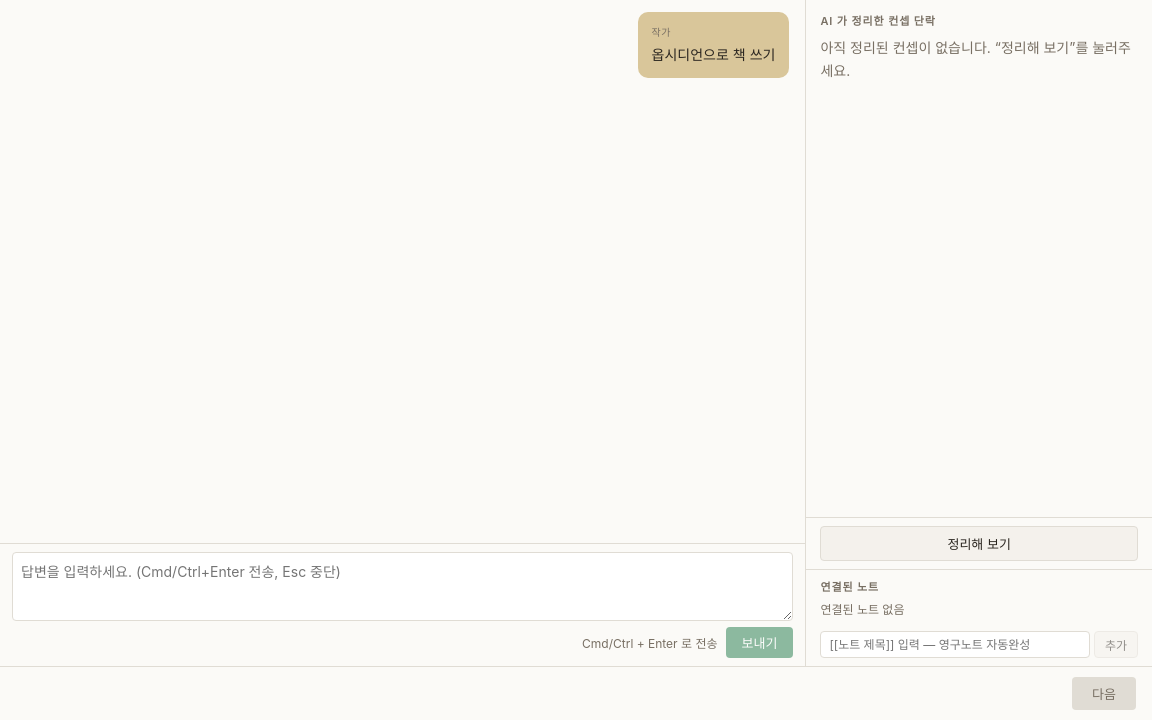
Test: 시나리오 5: 노트 chip 추가/제거 › 추가 버튼 클릭으로도 노트 추가 가능
Replace the text in the field with test id "concept-note-input" with "[ [노트B]]" at (955, 644), box [820,631,1090,658]
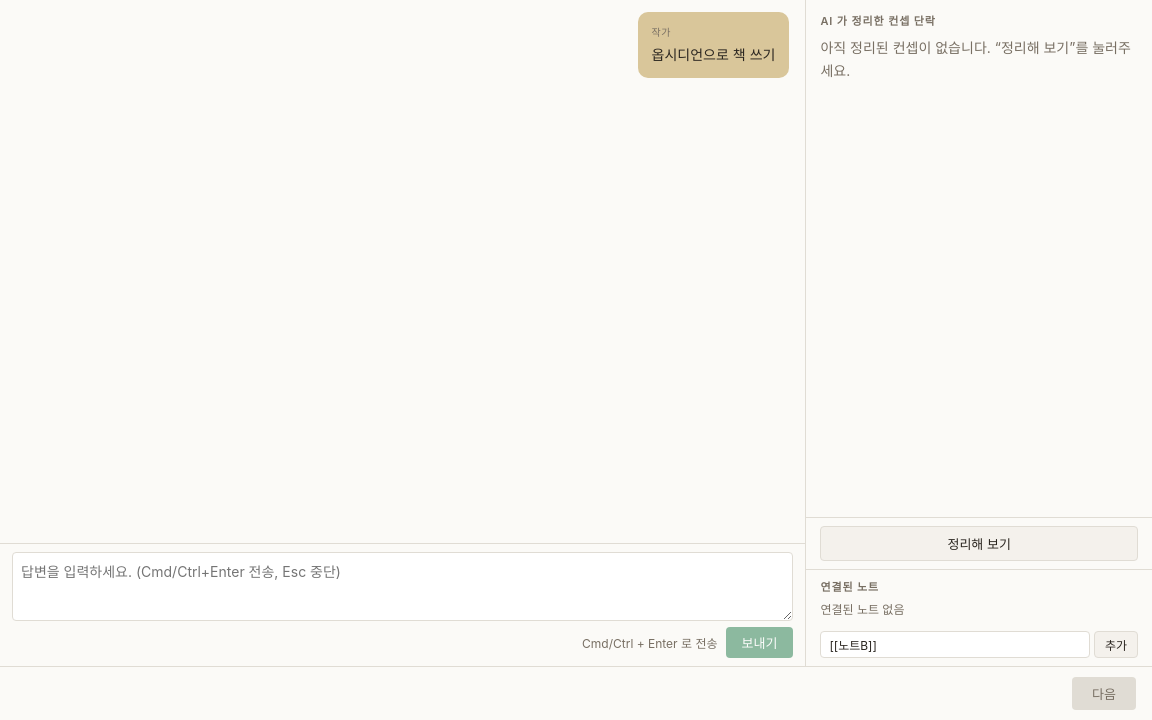
Click the button with test id "concept-note-add" at (1116, 644), box [1094,631,1138,658]
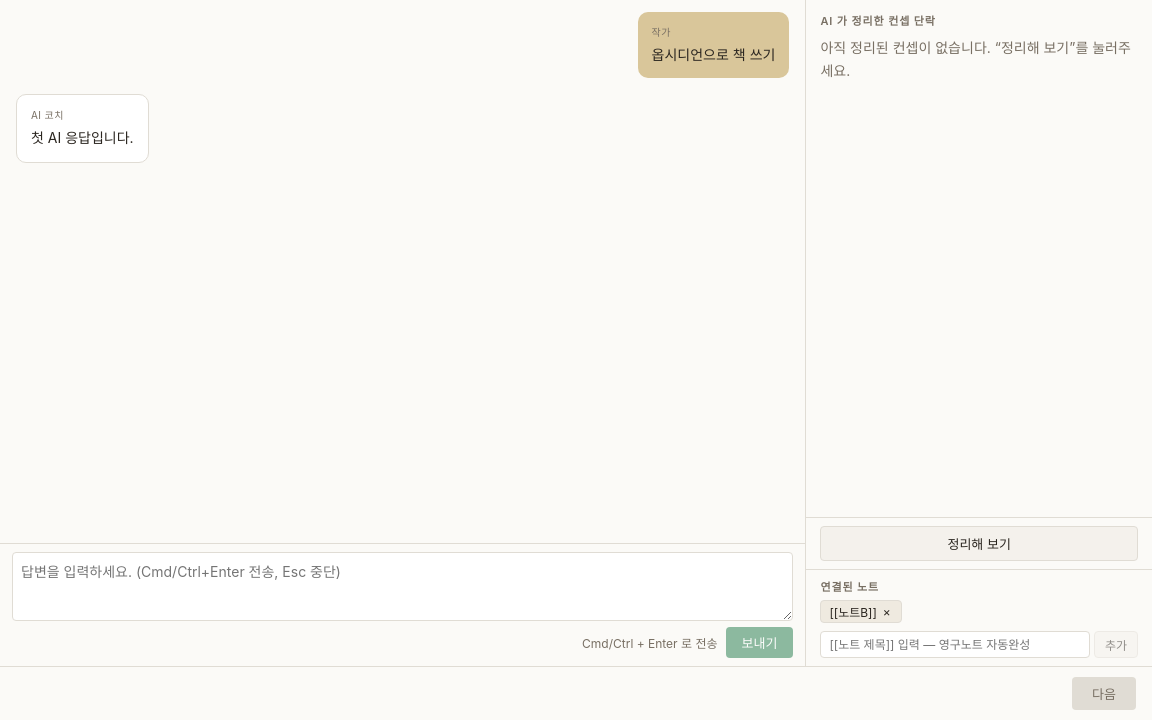
Result: the text "[ [노트B]]" is shown at [829,605,877,620]
